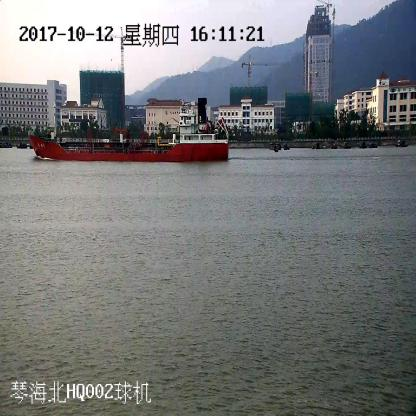Bulk Carrier: (27, 96, 228, 163)
